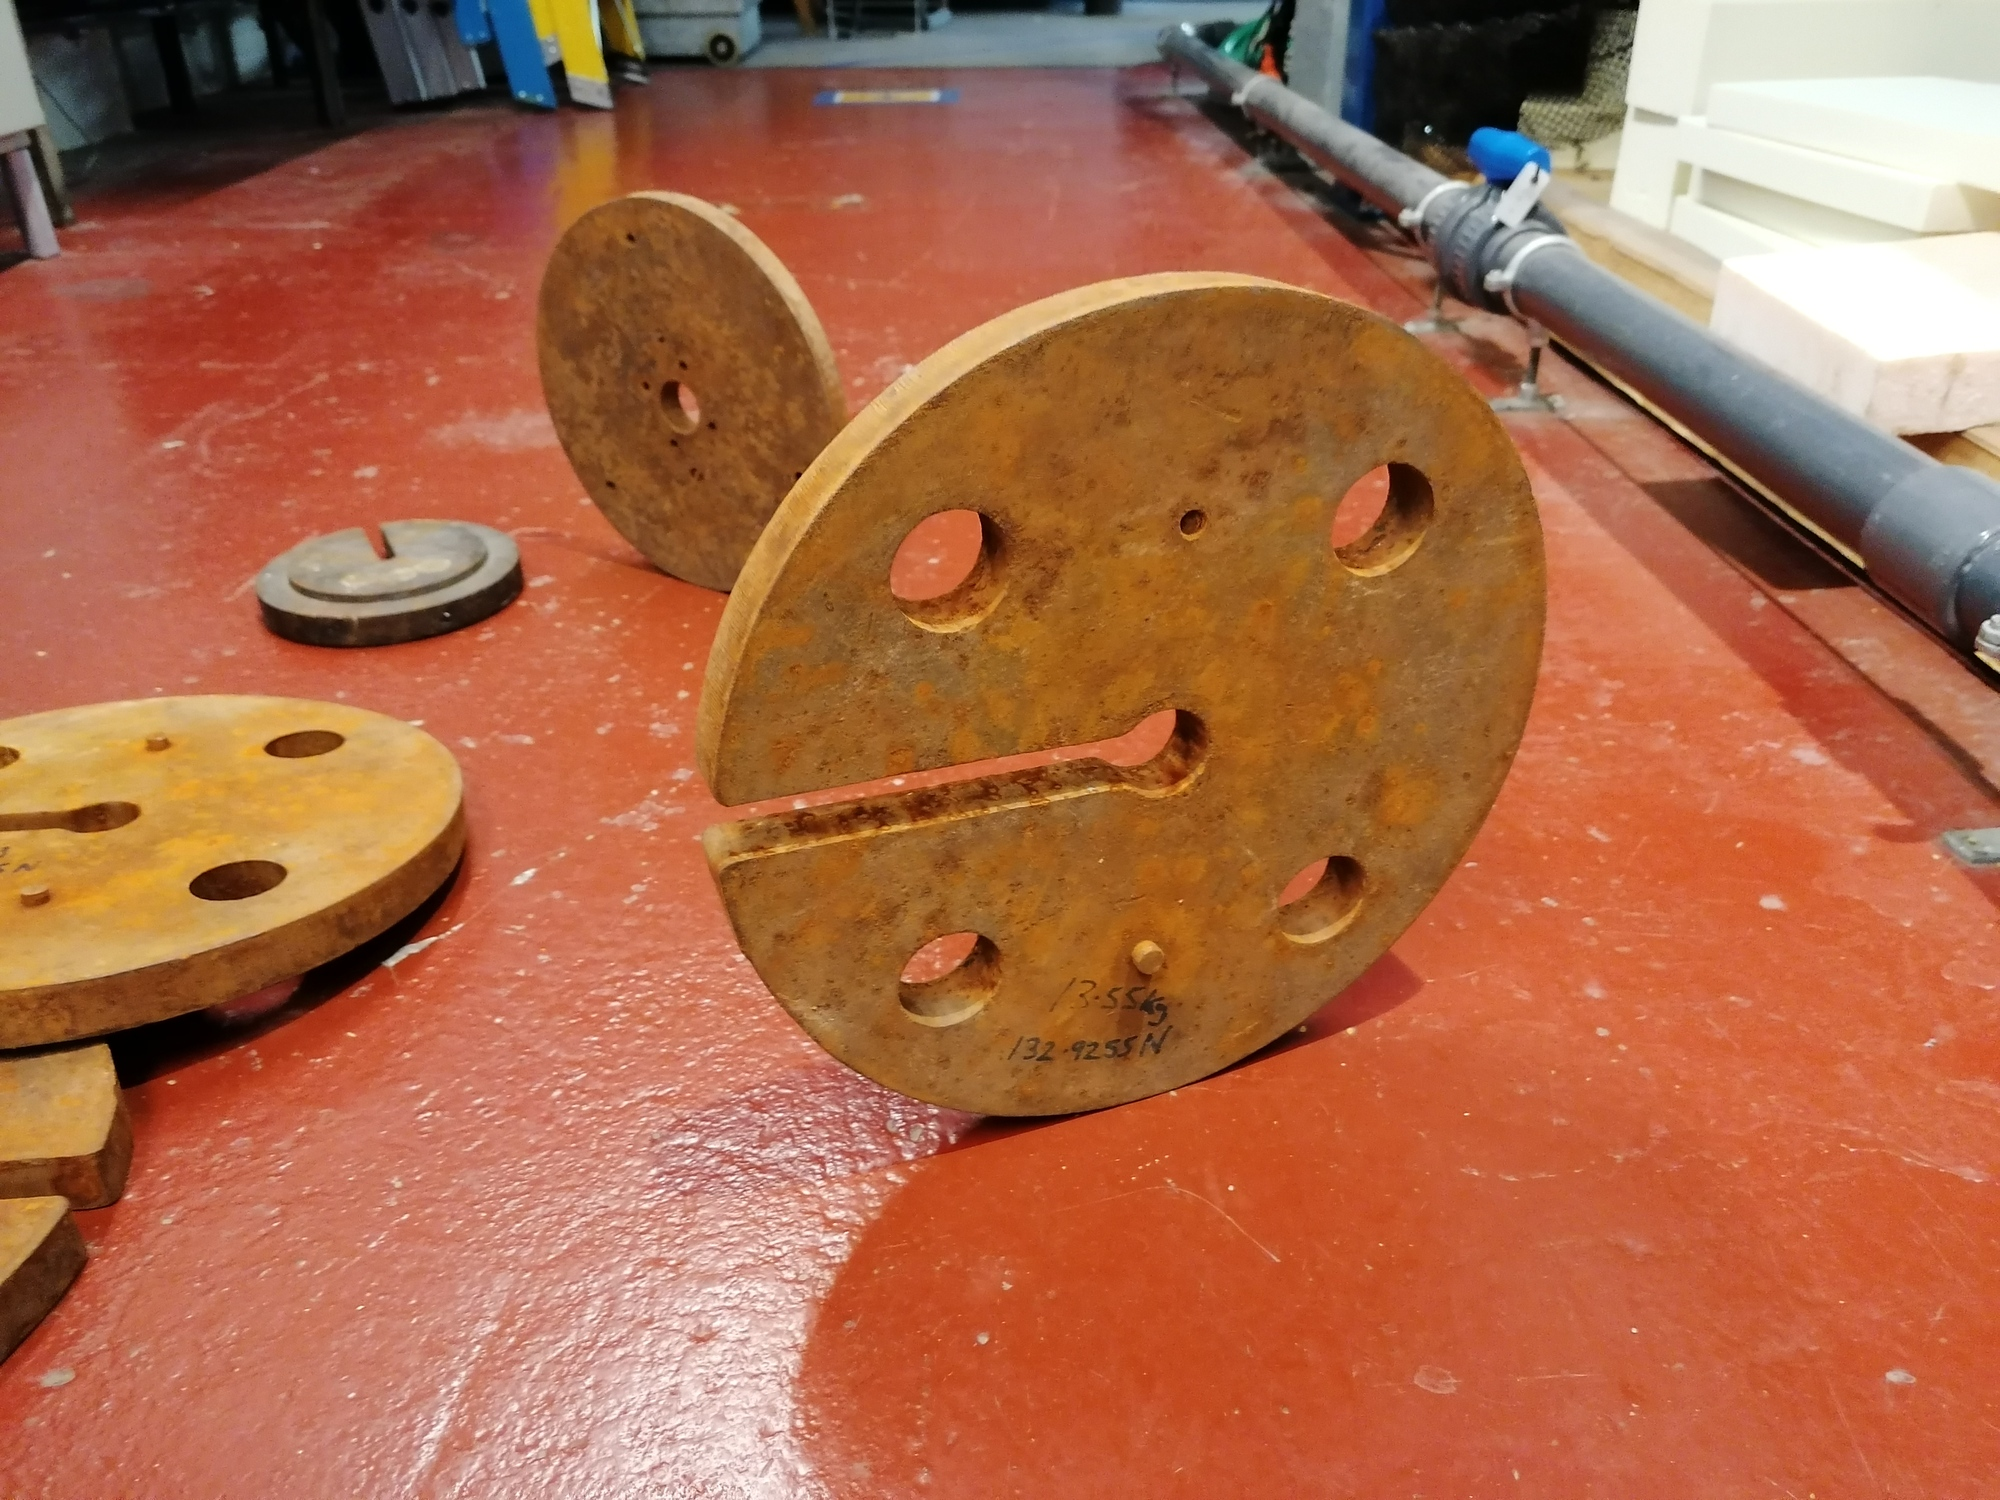flange: (694, 268, 1553, 1117), (0, 695, 468, 1049), (532, 187, 850, 592), (2, 1041, 135, 1364), (254, 512, 523, 646)
